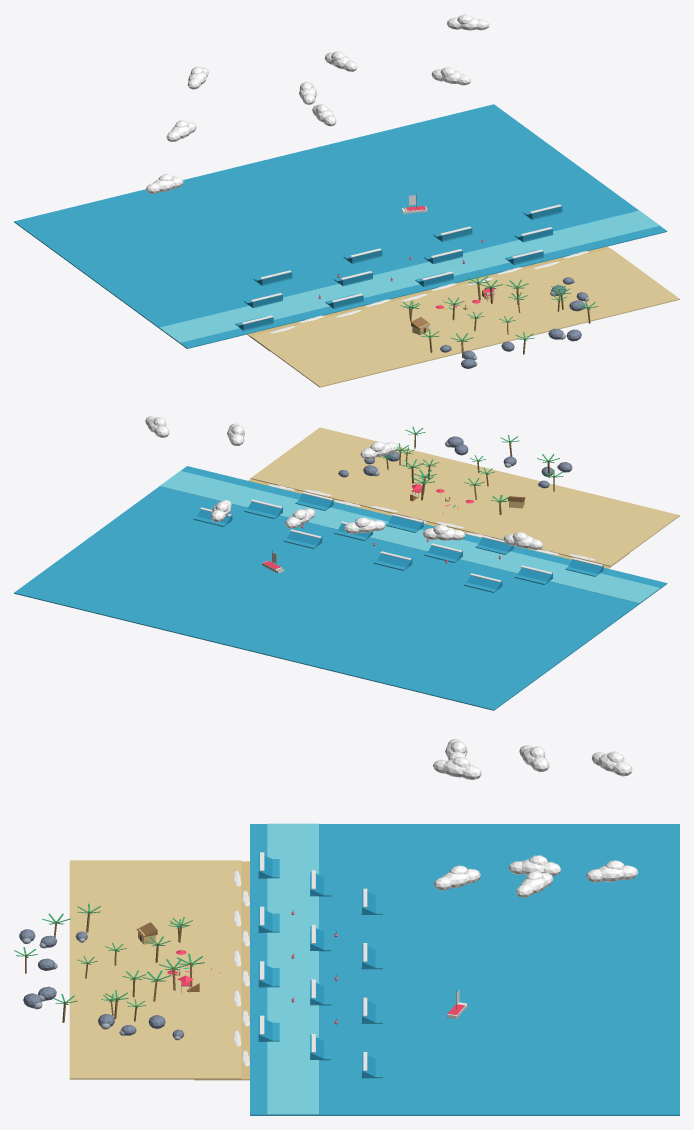
The model's file is Surfing_World.fbx.
The picture shows the model from 3 angles, top to bottom: view 1: azimuth 30°, elevation 25°; view 2: azimuth 150°, elevation 25°; view 3: azimuth 270°, elevation 25°; orthographic projection. The views are drawn at different scales.
Visible parts, largest first — view 1: Water.001, Sand.001; view 2: Water.001, Sand.001, Cloud.002, Cloud.003, Wave.003, Wave.006, Wave.009, Wave.002, Wave.005, Wave.011, Cloud.001, Wave.010 (+4 smaller); view 3: Water.001, Sand.001, Cloud.006, Cloud.004, Cloud.007, Cloud.005, Cloud.003, Cloud.008, Cloud.002.
Boxes of the visible parts, bbox=[...] form: Water.001: bbox=[14, 104, 667, 348]; Sand.001: bbox=[247, 246, 679, 387]; Water.001: bbox=[14, 466, 667, 710]; Sand.001: bbox=[248, 427, 679, 568]; Cloud.002: bbox=[423, 524, 465, 540]; Cloud.003: bbox=[344, 517, 385, 533]; Wave.003: bbox=[463, 573, 502, 592]; Wave.006: bbox=[373, 551, 412, 570]; Wave.009: bbox=[283, 529, 322, 548]; Wave.002: bbox=[514, 565, 553, 584]; Wave.005: bbox=[424, 543, 462, 562]; Wave.011: bbox=[244, 499, 282, 518]; Cloud.001: bbox=[503, 531, 542, 549]; Wave.010: bbox=[295, 491, 333, 510]; Water.001: bbox=[250, 823, 679, 1115]; Sand.001: bbox=[69, 860, 249, 1080]; Cloud.006: bbox=[586, 860, 638, 882]; Cloud.004: bbox=[433, 756, 481, 779]; Cloud.007: bbox=[434, 865, 480, 890]; Cloud.005: bbox=[508, 855, 561, 876]; Cloud.003: bbox=[592, 751, 632, 776]; Cloud.008: bbox=[516, 871, 553, 897]; Cloud.002: bbox=[519, 745, 549, 772].
Bounding box in the file's own units: 160 × 49.28 × 155.
